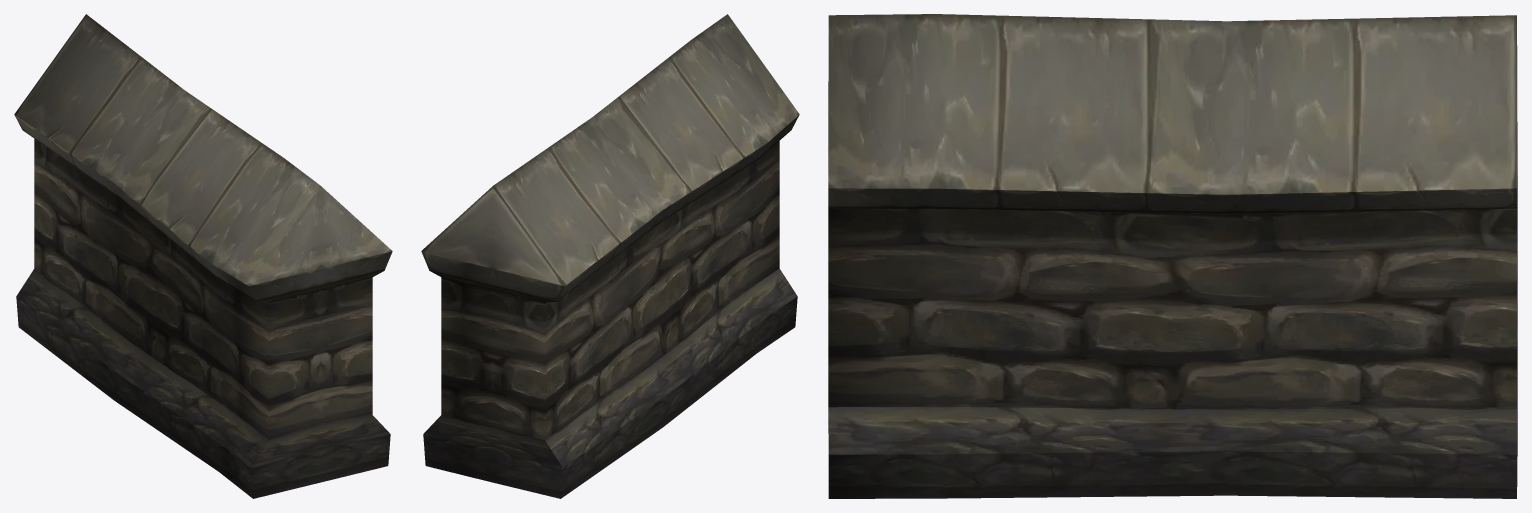
The picture shows the model from 3 angles, left to right: view 1: azimuth 30°, elevation 25°; view 2: azimuth 150°, elevation 25°; view 3: azimuth 270°, elevation 25°; orthographic projection. The views are drawn at different scales.
Size of the model in its own units: 1.06 by 2.04 by 2.92.
Materials: 1 (1 with a texture image).
